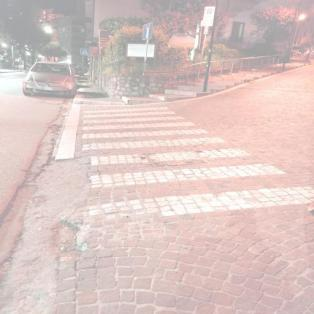Paso de Cebra: (81, 135, 255, 167), (82, 110, 188, 126)
